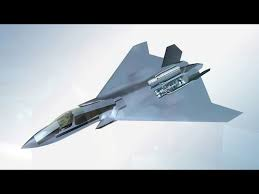fighter: (18, 39, 246, 151)
